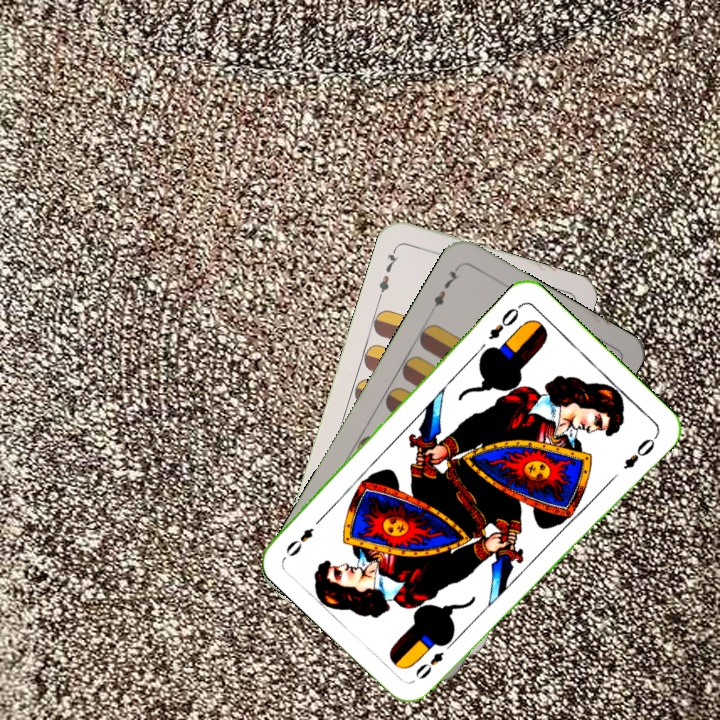E7: (426, 262, 463, 315), (374, 243, 401, 301)
EO: (411, 636, 457, 682), (484, 300, 524, 343)
